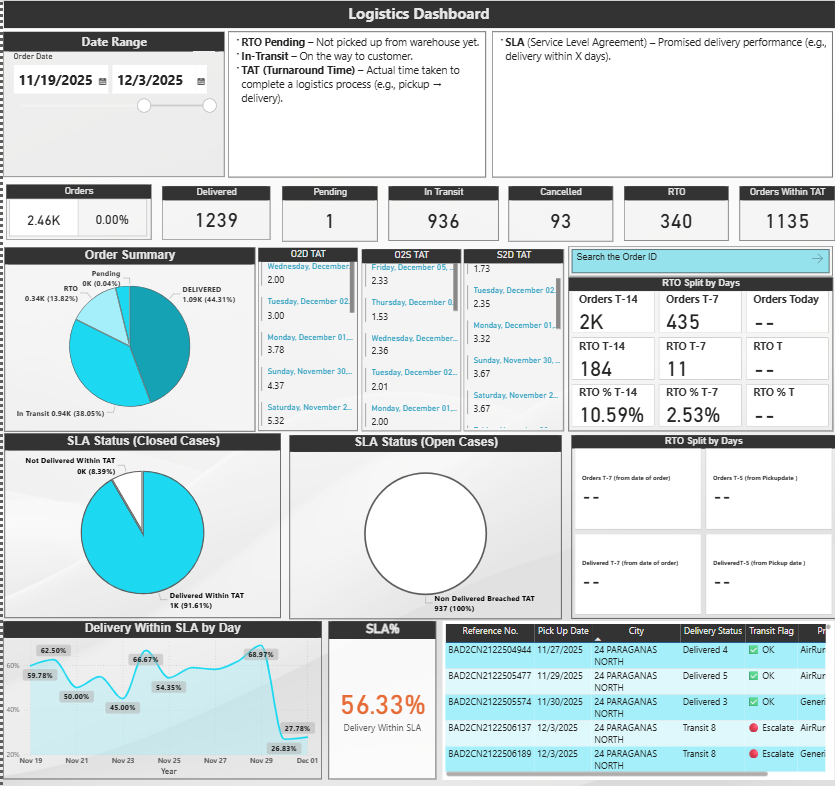

The page's visual inventory and layout, read from the dashboard file:
{"tool":"powerbi","page":{"name":"Page 1","canvas":[1480,1400],"ordinal":0},"visuals":[{"type":"pieChart","title":"Order Summary","fields":{"Category":["Delhivery Dump.Delivery Status Bucket"],"Y":["CountNonNull(Delhivery Dump.Reference No.)"]},"box":[1.4,439.7,445.7,327.1],"z":0},{"type":"cardVisual","title":"Orders","fields":{"Data":["CountNonNull(Delhivery Dump.Reference No.)","Delhivery Dump.% Change (Dynamic)"]},"box":[6.1,328.7,258.6,98.6],"z":1000},{"type":"card","title":"In Transit","fields":{"Values":["CountNonNull(Delhivery Dump.Current Status)"]},"box":[685.2,330.2,195.7,97.1],"z":2000},{"type":"card","title":"Delivered","fields":{"Values":["CountNonNull(Delhivery Dump.Status Type)"]},"box":[283.9,331.6,192.9,95.7],"z":3000},{"type":"card","title":"RTO","fields":{"Values":["CountNonNull(Delhivery Dump.Current Status)"]},"box":[1105.1,330.2,185.7,97.1],"z":4000},{"type":"card","title":"Cancelled","fields":{"Values":["CountNonNull(Delhivery Dump.Current Status)"]},"box":[900.1,330.2,185.7,98.6],"z":5000},{"type":"card","title":"Pending","fields":{"Values":["CountNonNull(Delhivery Dump.Current Status)"]},"box":[496,330.2,170,98.6],"z":6000},{"type":"slicer","title":"Date Range","fields":{"Values":["Delhivery Dump.Order Date"]},"box":[0,57.1,394.3,258.6],"z":7000},{"type":"textSlicer","fields":{"Values":["Delhivery Dump.Reference No."]},"box":[1007.1,438.2,470,54.3],"z":8000},{"type":"multiRowCard","title":"S2D TAT","fields":{"Values":["Delhivery Dump.Pick Up Date","Avg(Delhivery Dump.TAT Delivery)"]},"box":[820,442,178,324],"z":9000},{"type":"textbox","box":[0,0,1480,50],"z":10000},{"type":"lineChart","title":"Delivery Within SLA by Day","fields":{"Y":["Delhivery Dump.Delivery Within SLA"],"Category":["Delhivery Dump.Order Date.Variation.Date Hierarchy.Year","Delhivery Dump.Order Date.Variation.Date Hierarchy.Quarter","Delhivery Dump.Order Date.Variation.Date Hierarchy.Month","Delhivery Dump.Order Date.Variation.Date Hierarchy.Day"]},"box":[0,1105.4,567.1,281.4],"z":11000},{"type":"card","title":"SLA%","fields":{"Values":["Delhivery Dump.Delivery Within SLA"]},"box":[578.6,1105.4,191.4,281.4],"z":12000},{"type":"tableEx","fields":{"Values":["Delhivery Dump.Reference No.","Delhivery Dump.Pick Up Date","Delhivery Dump.City","Delhivery Dump.Delivery Status","Delhivery Dump.Transit Flag","Delhivery Dump.Product Name"]},"box":[781.4,1105.4,695.7,281.4],"z":13000},{"type":"card","title":"Orders Within TAT","fields":{"Values":["Sum(Delhivery Dump.Delivered Within TAT)"]},"box":[1310,331.6,170,97.1],"z":14000},{"type":"textbox","box":[399.5,57.1,458.9,259.2],"z":15000},{"type":"cardVisual","title":"RTO Split by Days","fields":{"Data":["Delhivery Dump.Orders  T-14","Delhivery Dump.Orders  T-7","Delhivery Dump.Orders Today","Delhivery Dump.RTO T-10","Delhivery Dump.RTO T-7","Delhivery Dump.RTO T","Delhivery Dump.RTO % T-10","Delhivery Dump.RTO % T-7","Delhivery Dump.RTO % T"]},"box":[1006.8,494.6,470.8,273.1],"z":16000},{"type":"textbox","box":[870.2,57.1,606.3,259.2],"z":17000},{"type":"multiRowCard","title":"O2D TAT","fields":{"Values":["Delhivery Dump.Order Date","Avg(Delhivery Dump.O2D TAT Delivery)"]},"box":[452.9,441.1,177.1,325.7],"z":18000},{"type":"multiRowCard","title":"O2S TAT","fields":{"Values":["Delhivery Dump.Pick Up Date","Avg(Delhivery Dump.O2P TAT Delivery)"]},"box":[637.1,442.5,177.1,324.3],"z":19000},{"type":"pieChart","title":"SLA Status (Closed Cases)","fields":{"Y":["Delhivery Dump.Delivered Within TAT 1","Delhivery Dump.Not Delivered Within TAT"]},"box":[2,771.7,491.2,328.1],"z":20000},{"type":"pieChart","title":"SLA Status (Open Cases)","fields":{"Y":["Delhivery Dump.Non Delivered Breached TAT","Delhivery Dump.Non Delivered Orders TAT"]},"box":[509.5,772.5,484.3,327.1],"z":21000},{"type":"cardVisual","title":"RTO Split by Days","fields":{"Data":["Delhivery Dump.Orders - Order date  T-7","Delhivery Dump.Orders - Pickup date  T-7","Delhivery Dump.Delivered - Order date  T-7","Delhivery Dump.Delivered - Pickup date  T-5"]},"box":[1010,773.3,470,326.7],"z":22000}]}

Visuals, with their boxes in screenshot pixels (x1, y1, x2, y2), scaled from the page's 1480x1400 canvas onto the 835x786 screenshot:
"Order Summary" pieChart: <region>1, 247, 252, 431</region>
"Orders" cardVisual: <region>3, 185, 149, 240</region>
"In Transit" card: <region>387, 185, 497, 240</region>
"Delivered" card: <region>160, 186, 269, 240</region>
"RTO" card: <region>623, 185, 728, 240</region>
"Cancelled" card: <region>508, 185, 613, 241</region>
"Pending" card: <region>280, 185, 376, 241</region>
"Date Range" slicer: <region>0, 32, 222, 177</region>
textSlicer - Delhivery Dump.Reference No.: <region>568, 246, 833, 277</region>
"S2D TAT" multiRowCard: <region>463, 248, 563, 430</region>
textbox: <region>0, 0, 834, 28</region>
"Delivery Within SLA by Day" lineChart: <region>0, 621, 320, 779</region>
"SLA%" card: <region>326, 621, 434, 779</region>
tableEx - Delhivery Dump.Reference No. x Delhivery Dump.Pick Up Date: <region>441, 621, 833, 779</region>
"Orders Within TAT" card: <region>739, 186, 834, 241</region>
textbox: <region>225, 32, 484, 178</region>
"RTO Split by Days" cardVisual: <region>568, 278, 834, 431</region>
textbox: <region>491, 32, 833, 178</region>
"O2D TAT" multiRowCard: <region>256, 248, 355, 431</region>
"O2S TAT" multiRowCard: <region>359, 248, 459, 431</region>
"SLA Status (Closed Cases)" pieChart: <region>1, 433, 278, 617</region>
"SLA Status (Open Cases)" pieChart: <region>287, 434, 561, 617</region>
"RTO Split by Days" cardVisual: <region>570, 434, 834, 618</region>
